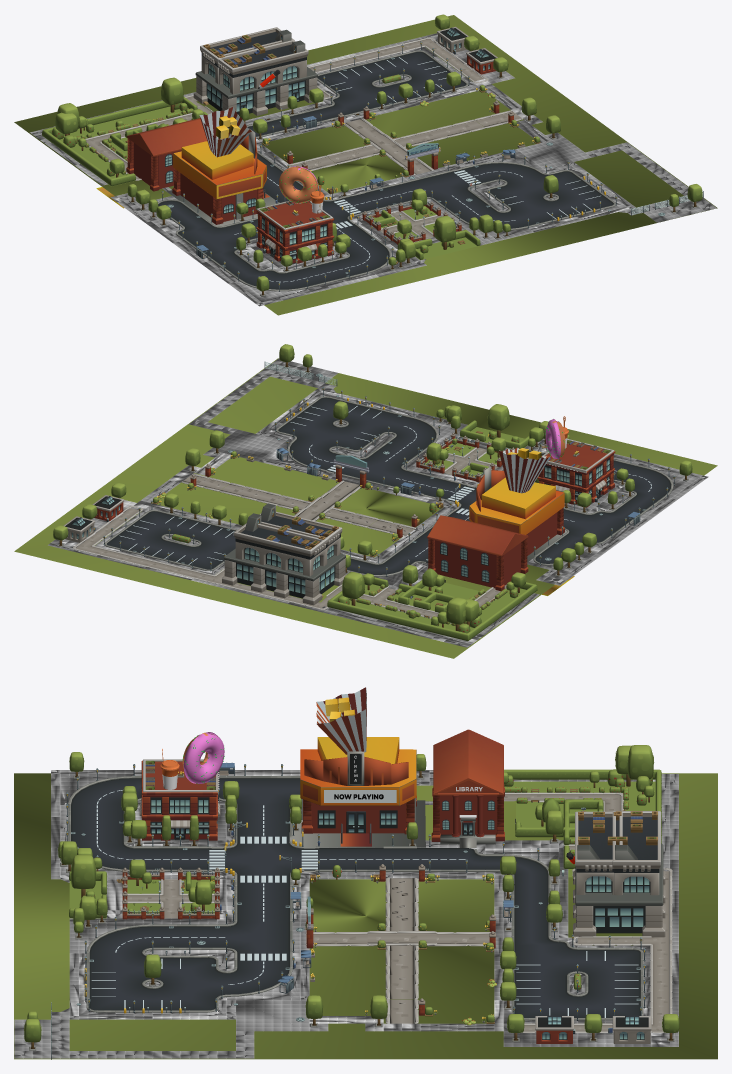
File: invactCity.glb
The picture shows the model from 3 angles, top to bottom: view 1: azimuth 30°, elevation 25°; view 2: azimuth 150°, elevation 25°; view 3: azimuth 270°, elevation 25°; orthographic projection. The views are drawn at different scales.
Visible parts, largest first — view 1: city_sample_streets.005, Plane, city_sample_floor, city_sample_houses_1.006, city_sample_houses_1.004, city_sample_houses_1.026, city_sample_houses_1.003, city_sample_houses_1.025, Cube.010, Cube.046, Cube.017, Cube.052 (+8 smaller); view 2: city_sample_streets.005, Plane, city_sample_floor, city_sample_houses_1.006, city_sample_houses_1.025, city_sample_houses_1.003, city_sample_houses_1.004, Cube.046, Cube.009, Cube.017, city_sample_houses_1.026, Cube.010 (+4 smaller); view 3: city_sample_streets.005, Plane, city_sample_floor, city_sample_houses_1.006, city_sample_houses_1.003, Cube.046, city_sample_houses_1.004, city_sample_houses_1.025, city_sample_houses_1.026, Cube.010, Cube.052, Plane.015 (+16 smaller).
Part boxes in pixels (bbox=[...]): city_sample_streets.005: bbox=[127, 41, 703, 291]; Plane: bbox=[14, 15, 717, 315]; city_sample_floor: bbox=[30, 33, 716, 306]; city_sample_houses_1.006: bbox=[42, 14, 508, 186]; city_sample_houses_1.004: bbox=[256, 202, 334, 264]; city_sample_houses_1.026: bbox=[217, 40, 308, 94]; city_sample_houses_1.003: bbox=[193, 67, 317, 115]; city_sample_houses_1.025: bbox=[200, 27, 294, 84]; Cube.010: bbox=[173, 151, 266, 199]; Cube.046: bbox=[126, 118, 207, 156]; Cube.017: bbox=[181, 141, 253, 179]; Cube.052: bbox=[199, 107, 251, 157]; city_sample_streets.005: bbox=[103, 344, 675, 576]; Plane: bbox=[14, 358, 717, 658]; city_sample_floor: bbox=[48, 358, 708, 647]; city_sample_houses_1.006: bbox=[53, 482, 537, 641]; city_sample_houses_1.025: bbox=[233, 513, 328, 576]; city_sample_houses_1.003: bbox=[222, 548, 346, 605]; city_sample_houses_1.004: bbox=[537, 442, 615, 507]; Cube.046: bbox=[427, 515, 528, 556]; Cube.009: bbox=[435, 540, 520, 588]; Cube.017: bbox=[481, 477, 555, 519]; city_sample_houses_1.026: bbox=[258, 503, 342, 563]; Cube.010: bbox=[469, 490, 564, 534]; city_sample_streets.005: bbox=[24, 754, 645, 1059]; Plane: bbox=[14, 773, 717, 1059]; city_sample_floor: bbox=[14, 770, 678, 1058]; city_sample_houses_1.006: bbox=[504, 745, 679, 1043]; city_sample_houses_1.003: bbox=[573, 843, 665, 937]; Cube.046: bbox=[433, 729, 503, 795]; city_sample_houses_1.004: bbox=[139, 760, 220, 840]; city_sample_houses_1.025: bbox=[612, 811, 660, 895]; city_sample_houses_1.026: bbox=[575, 811, 622, 894]; Cube.010: bbox=[300, 749, 416, 805]; Cube.052: bbox=[316, 687, 366, 754]; Plane.015: bbox=[289, 800, 425, 847].
Size of what is drawn, in the model's own units: 223 by 44.15 by 229.
45 materials, 25 textured.
